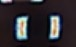COMP: (9, 10, 65, 44)
GAP: (14, 1, 43, 28)
